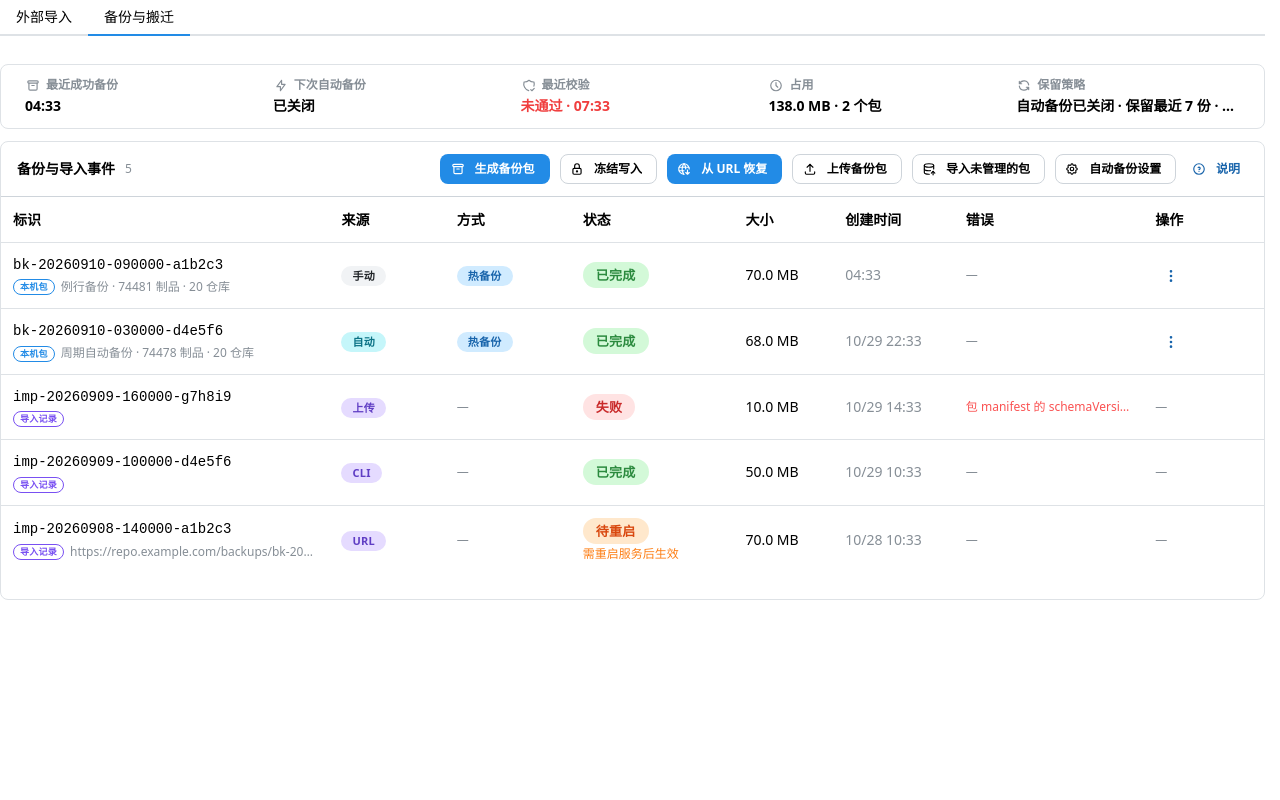
it: 备份与搬迁 › 初始可写（动作条给「冻结写入」）；冻结后转「解冻写入」并把自动解冻时间挂进标题
The width and height of the screenshot is (1280, 800).
Expected: the element with test id "backup-actions" is shown, [440,154,1248,184]
Expected: the button "解冻写入" is not shown
打开冻结 Modal，选择有界档位后确认。
Click the button "冻结写入": (608,169) [560,154,657,184]
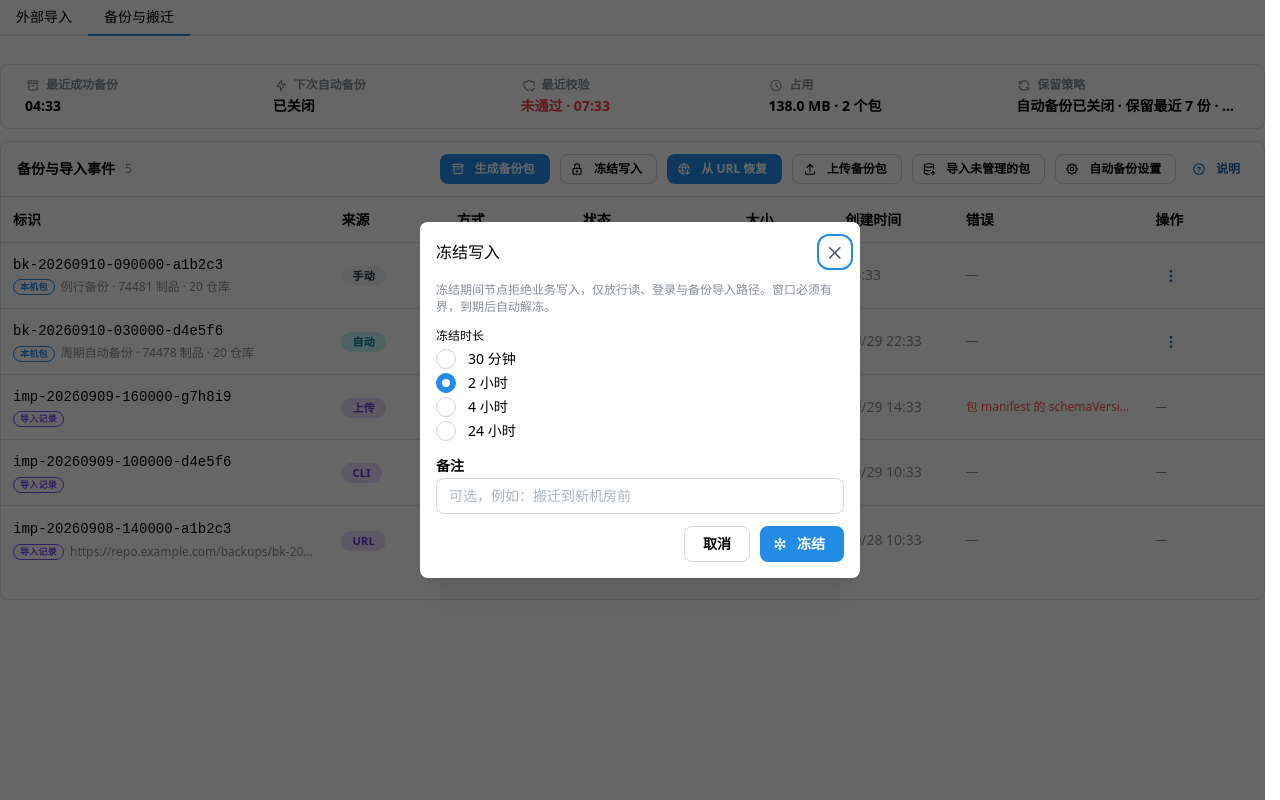
Click the text "4 小时": (488,406) [468,397,508,416]
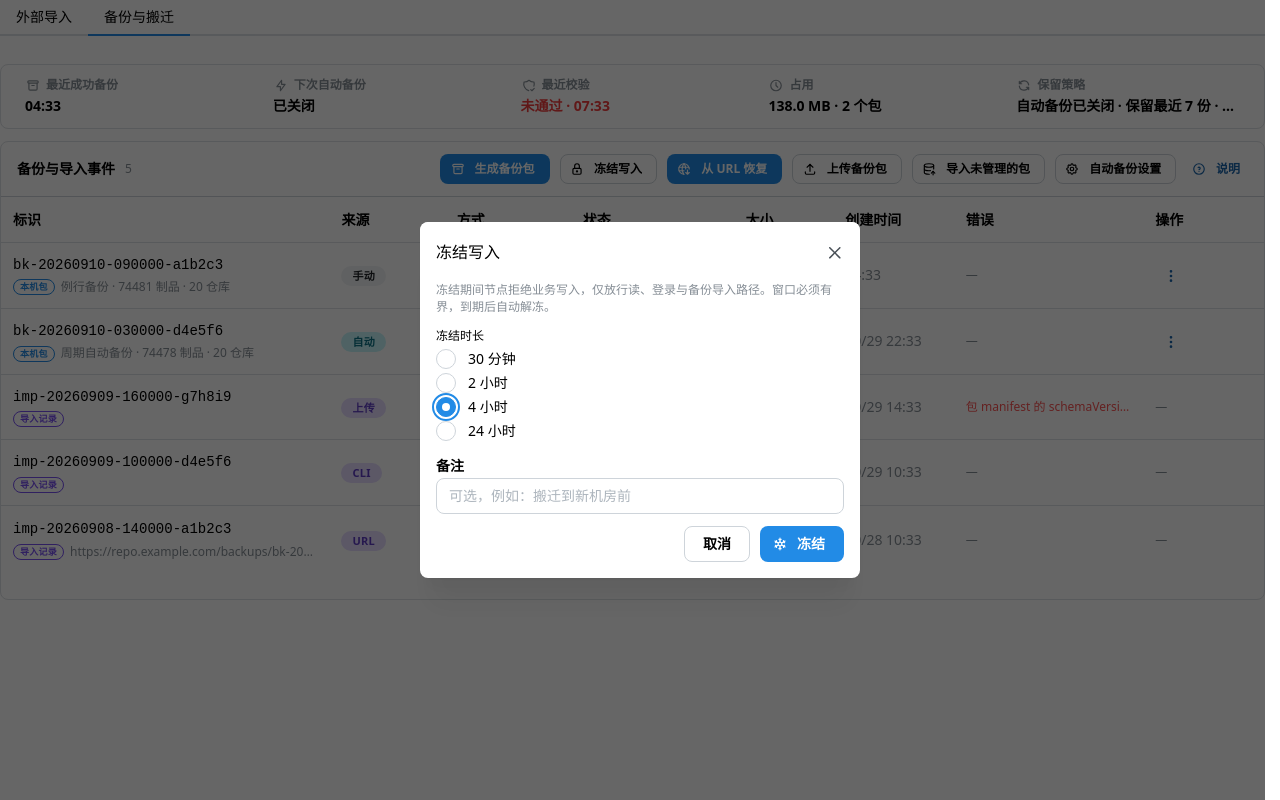
Click the button "冻结": (802,544) [760,526,844,562]
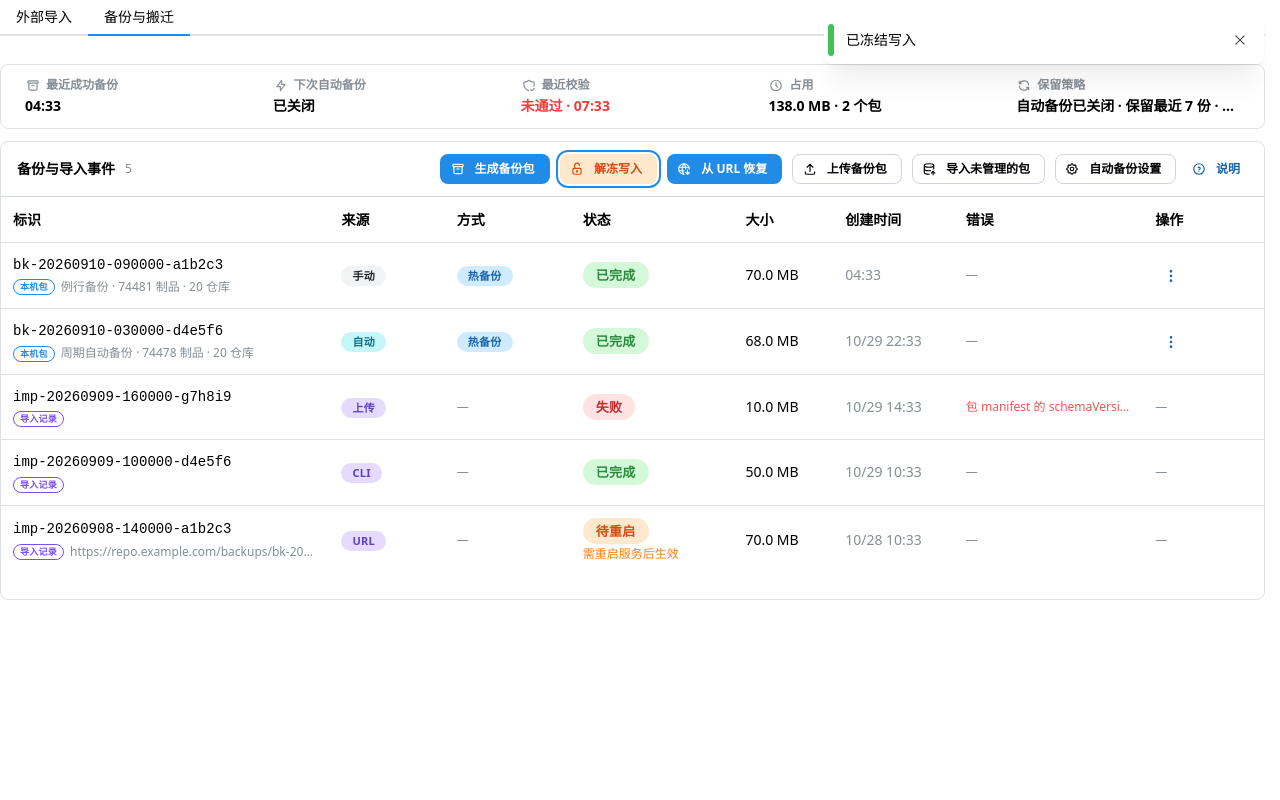
Expected: the button "解冻写入" is shown, [560,154,657,184]
